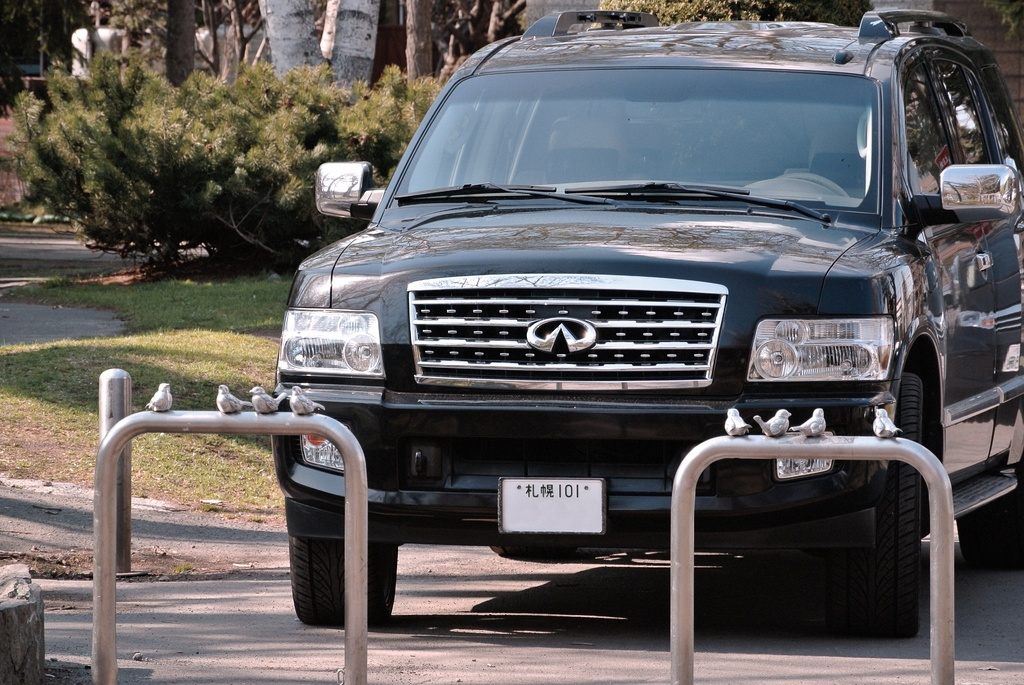Car: (277, 8, 1023, 635)
